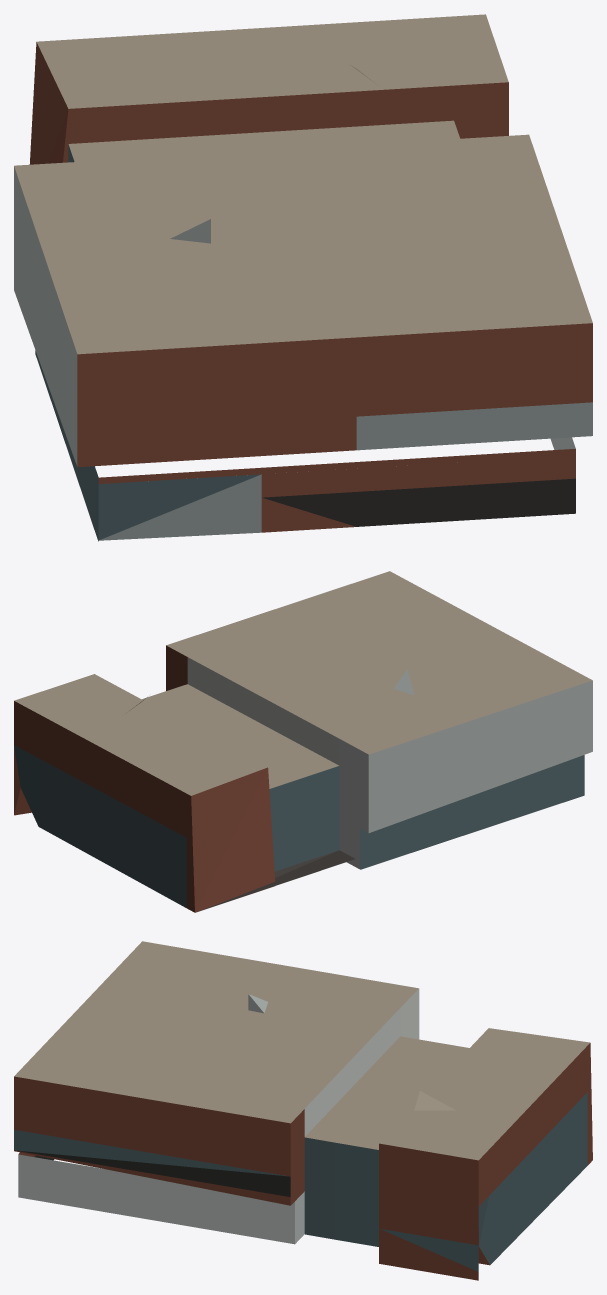
Rendered from marnixbad.lod2.glb.
The picture shows the model from 3 angles, top to bottom: view 1: azimuth 30°, elevation 25°; view 2: azimuth 150°, elevation 25°; view 3: azimuth 270°, elevation 25°; orthographic projection. The views are drawn at different scales.
Visible parts, largest first — view 1: lod2; view 2: lod2; view 3: lod2.
Boxes of the visible parts, x1=… form: lod2: x1=14, y1=14, x2=592, y2=541; lod2: x1=14, y1=571, x2=592, y2=912; lod2: x1=14, y1=941, x2=592, y2=1280.
Bounding box in the file's own units: 53.43 × 16.5 × 61.09.
